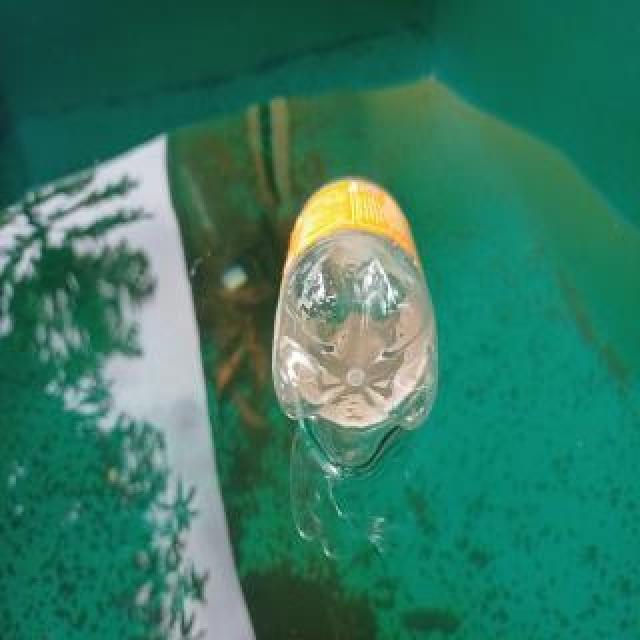bottle: (266, 170, 446, 478)
